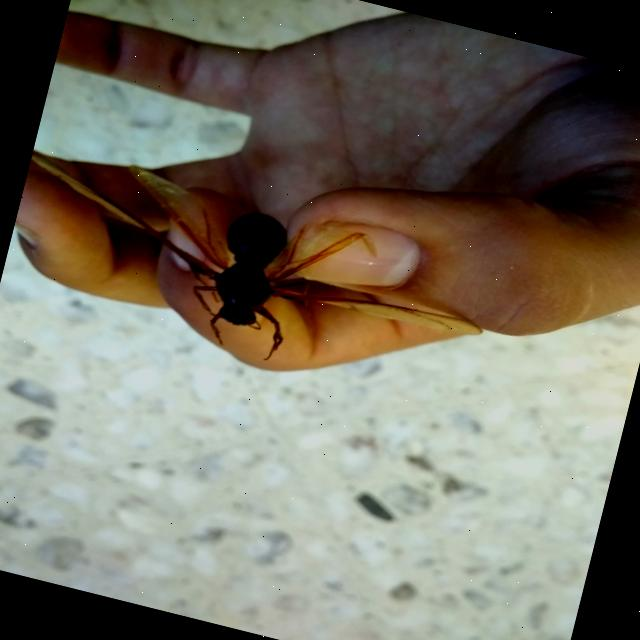Alive-Female-Alate: (0, 140, 499, 411)
